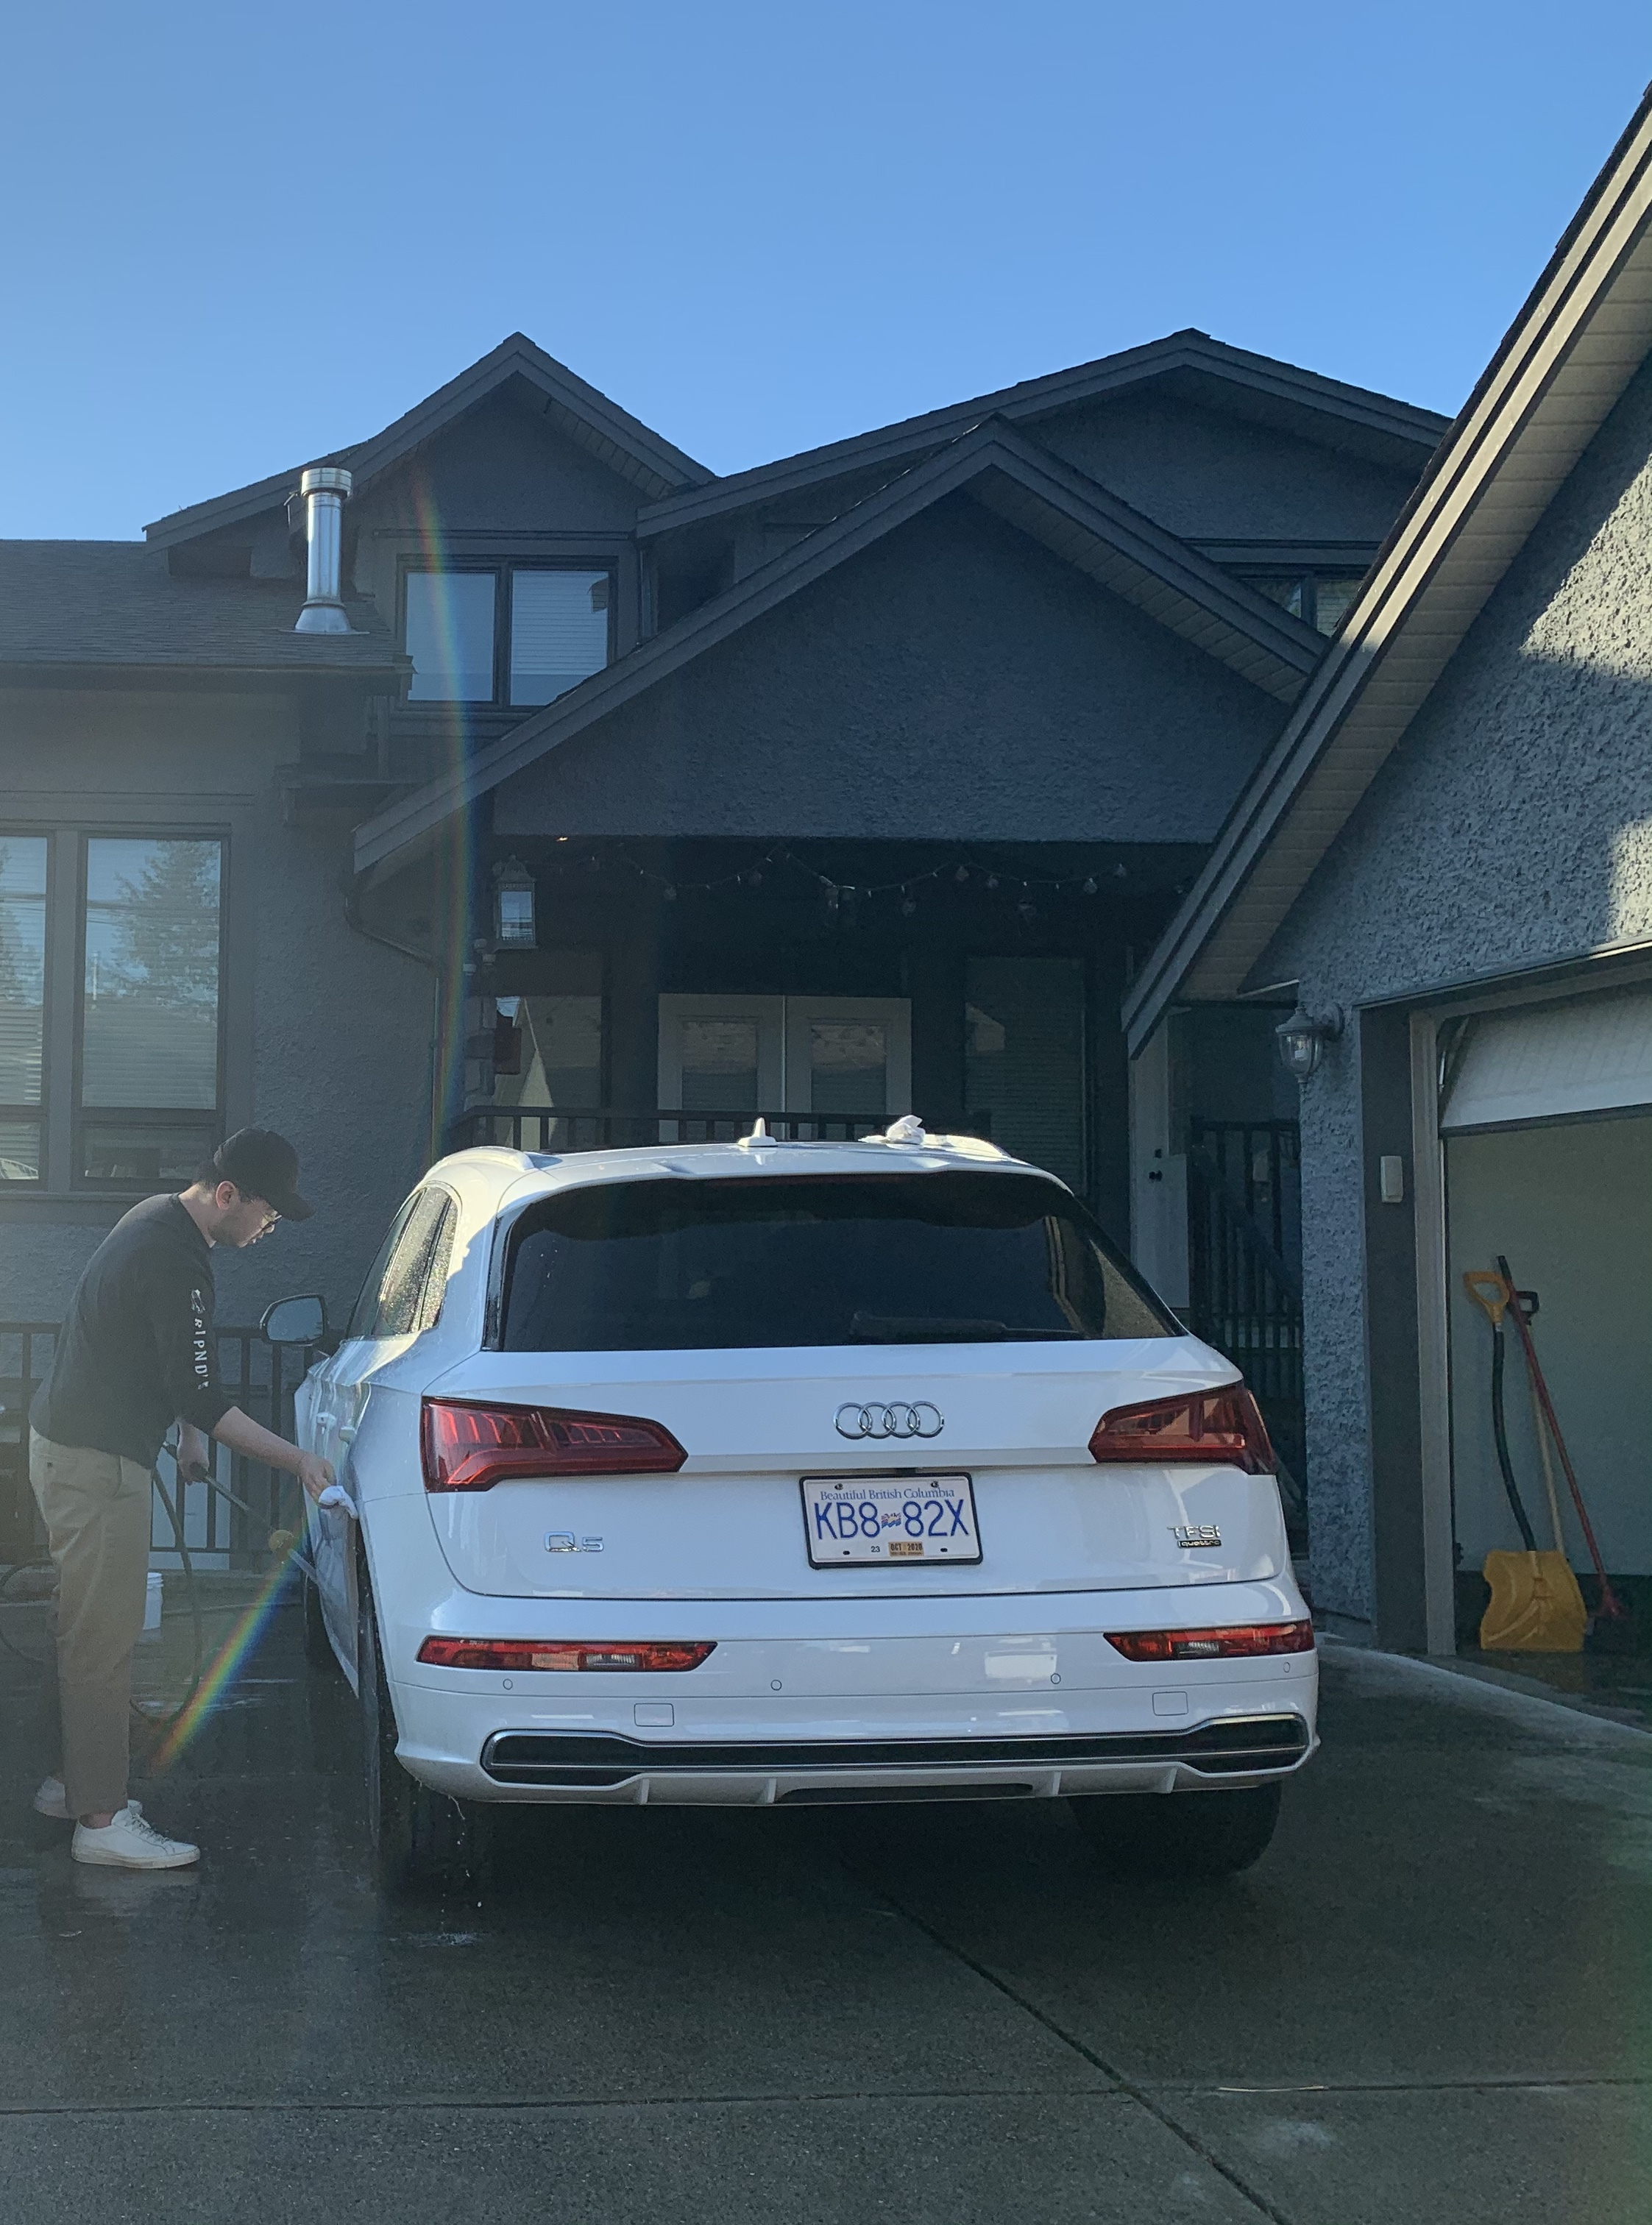licence plate: (780, 1457, 1013, 1580)
